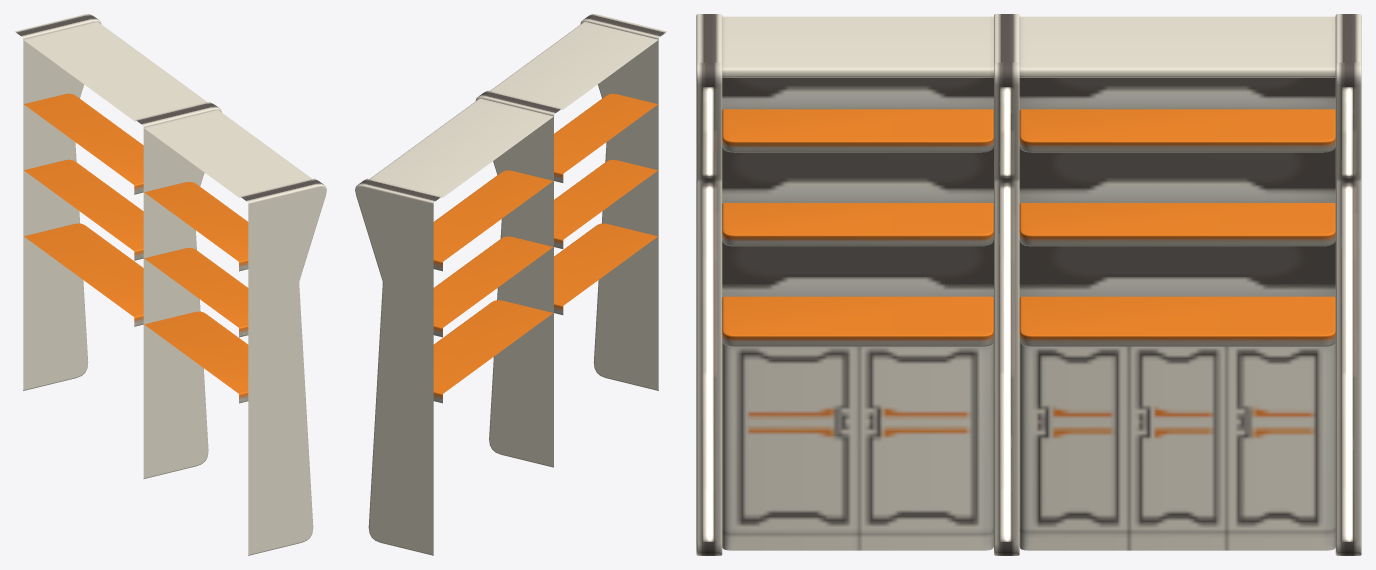
The model's file is bar_shelves_1_c.glb.
3 views of the same model, side by side, from view 1: azimuth 30°, elevation 25°; view 2: azimuth 150°, elevation 25°; view 3: azimuth 270°, elevation 25° (orthographic). The views are drawn at different scales.
Parts seen in each view (by area): view 1: bar_shelves_1; view 2: bar_shelves_1; view 3: bar_shelves_1.
Part boxes in pixels (box(x1,y1,x2,y2)): bar_shelves_1: box(15, 14, 326, 555); bar_shelves_1: box(355, 14, 666, 555); bar_shelves_1: box(696, 14, 1361, 555).
Bounding box in the file's own units: 0.5858 × 2.5 × 3.
Materials: 1 (1 with a texture image).
